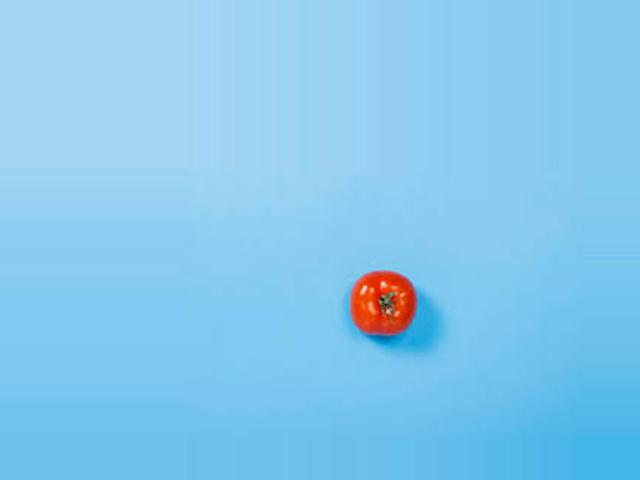tomato: (350, 269, 419, 335)
